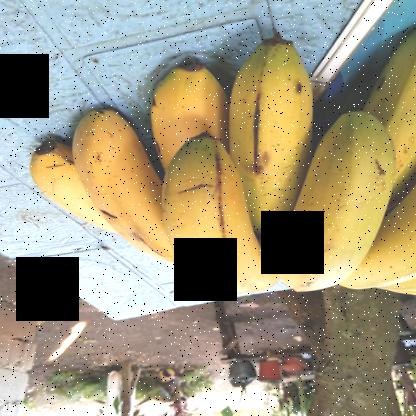freshripe: (281, 110, 399, 298)
ripe: (151, 146, 283, 299), (218, 31, 324, 214), (67, 114, 158, 258)
